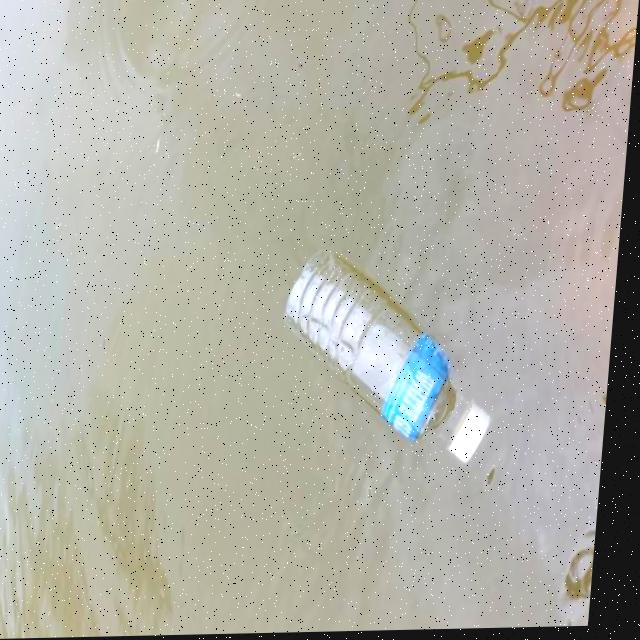waterbottle: (272, 234, 528, 480)
